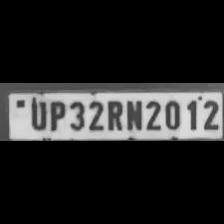0: (162, 98, 180, 130)
1: (183, 98, 199, 132)
2: (200, 97, 220, 131), (86, 98, 104, 132), (143, 98, 161, 132)
3: (66, 98, 86, 130)
N: (124, 97, 142, 131)
P: (46, 98, 66, 132)
R: (104, 98, 122, 132)
U: (27, 98, 47, 130)
